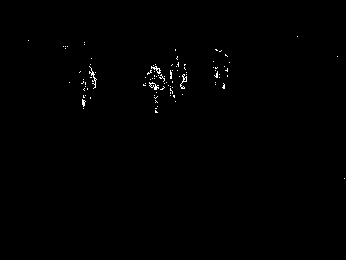person: (144, 65, 164, 113), (78, 59, 97, 109), (170, 59, 186, 100)
